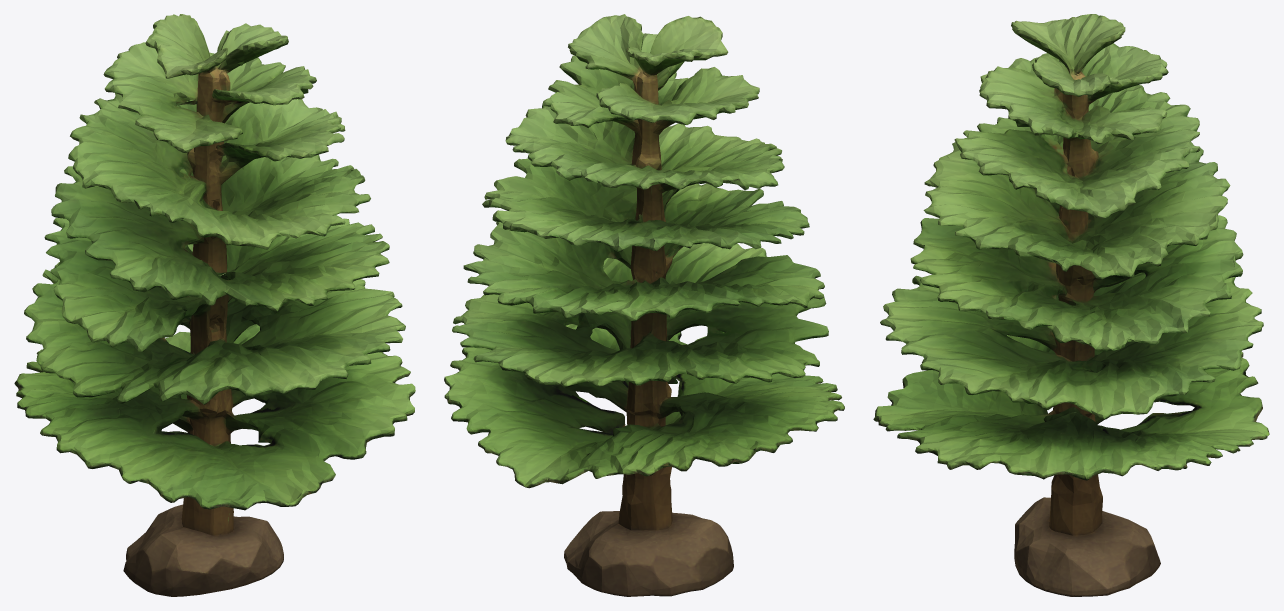
3 views of the same model, side by side, from view 1: azimuth 30°, elevation 25°; view 2: azimuth 150°, elevation 25°; view 3: azimuth 270°, elevation 25° (orthographic).
Visible parts, largest first — view 1: geometry_0; view 2: geometry_0; view 3: geometry_0.
Boxes of the visible parts, left/top/right/bottom form: geometry_0: left=14, top=14, right=415, bottom=596; geometry_0: left=444, top=14, right=844, bottom=596; geometry_0: left=873, top=14, right=1269, bottom=596.
Bounding box in the file's own units: 0.6911 × 0.9999 × 0.6806.
1 material, 1 textured.
